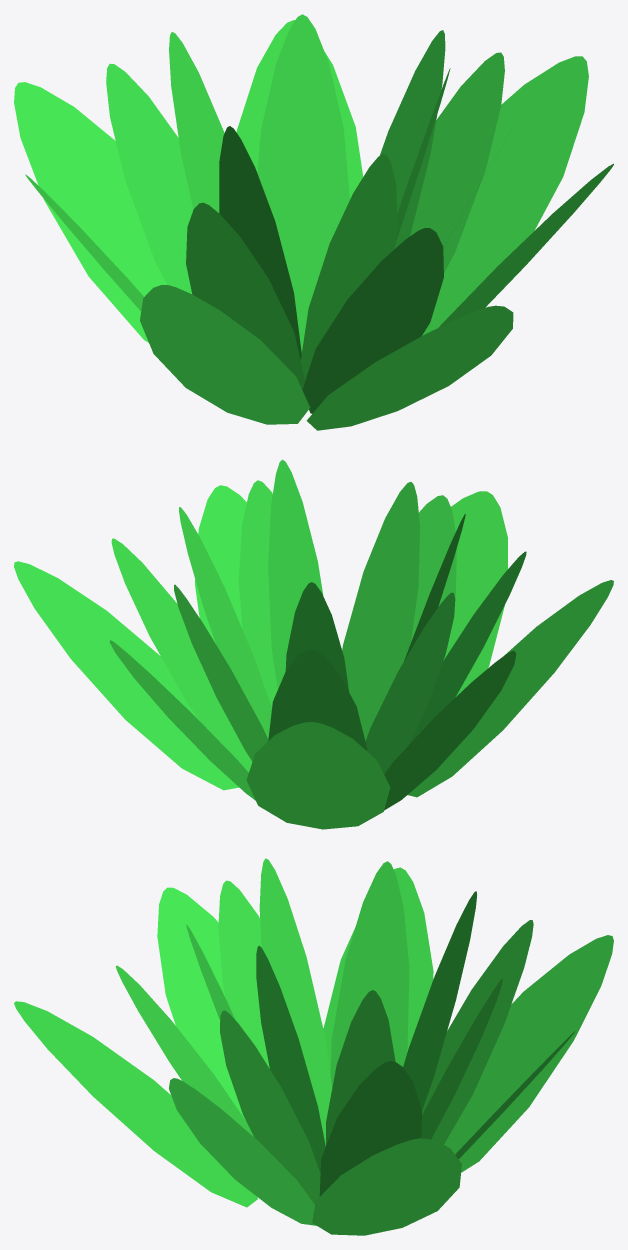
Rendered from Grass.fbx.
3 renders of one model, top to bottom at view 1: azimuth 30°, elevation 25°; view 2: azimuth 150°, elevation 25°; view 3: azimuth 270°, elevation 25°, orthographic. The views are drawn at different scales.
Visible parts, largest first — view 1: Grass; view 2: Grass; view 3: Grass.
Part boxes in pixels (x1,y1,x2,y2): Grass: (14,14,613,430); Grass: (14,459,613,829); Grass: (14,858,613,1235).
Size of the model in its own units: 535 by 300 by 550.
